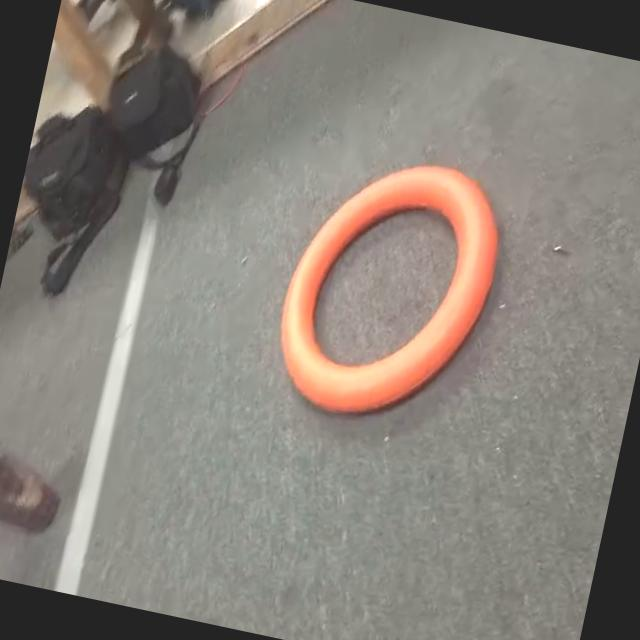note: (259, 130, 516, 456)
